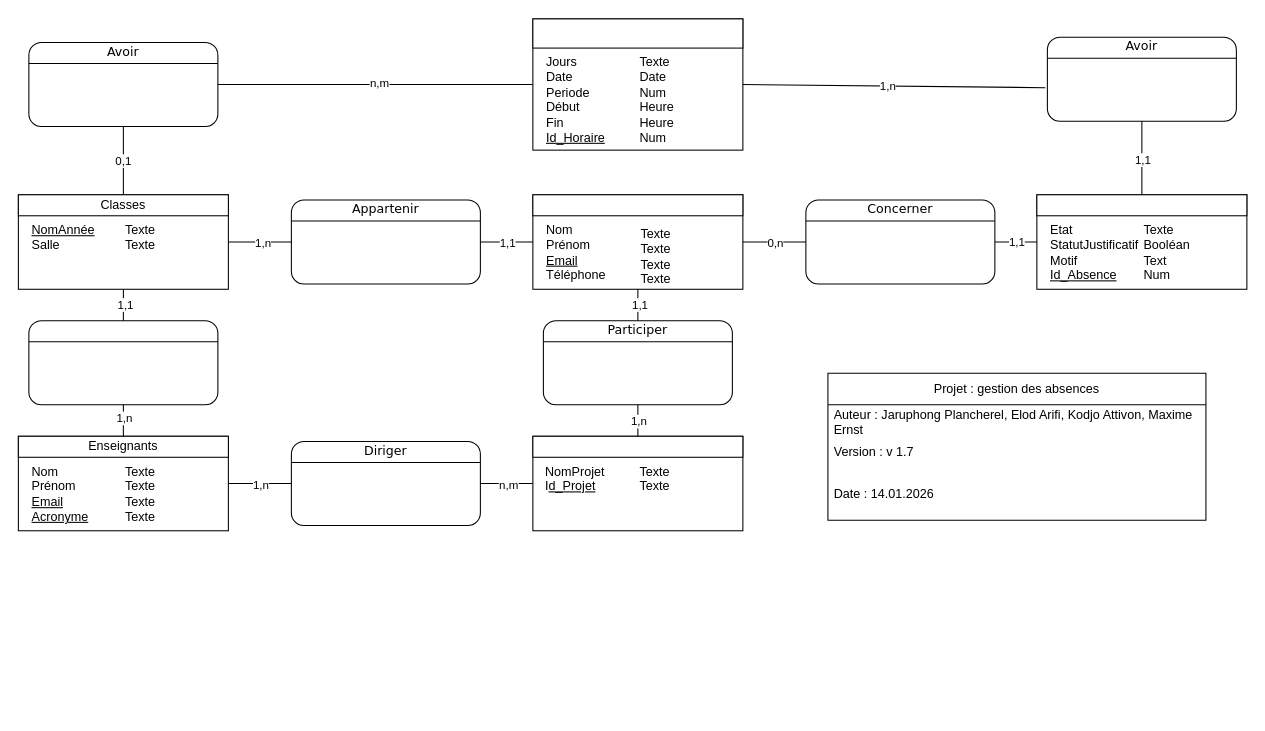
This 1265x731 diagram has some shape labels left out. Here are the shapes that lost their labels. From the top down, the centre of each, then its label:
At point (637, 33): "Horaires".
At point (637, 205): "Élèves".
At point (1141, 205): "Absences".
At point (123, 362): "Enseigner".
At point (637, 446): "Projets".
